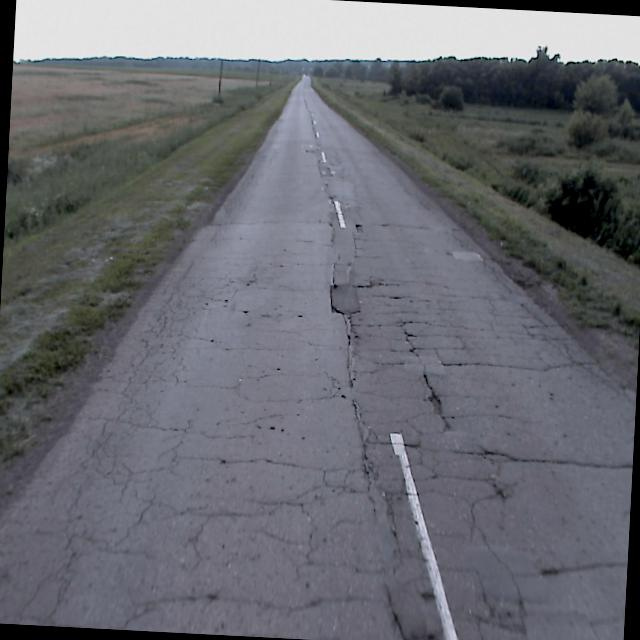road: (0, 87, 636, 640)
